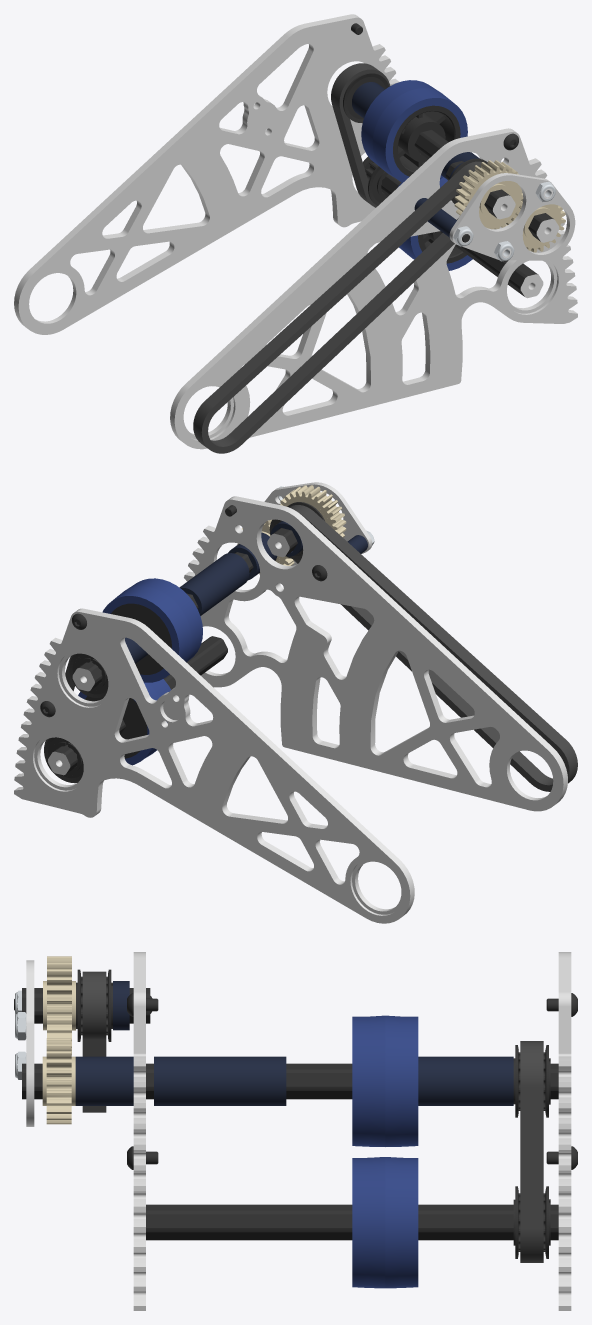
The picture shows the model from 3 angles, top to bottom: view 1: azimuth 30°, elevation 25°; view 2: azimuth 150°, elevation 25°; view 3: azimuth 270°, elevation 25°; orthographic projection. The views are drawn at different scales.
Visible parts, largest first — view 1: Hood Left Plate, Hood Right Plate, 89T HTD5 Belt, 2" Stealth Wheel (50A, 1/2" Hex Bore) (×2), Hood Gear Holder Plate, 28t Aluminum Spur Gear (20 DP, 1/2" Hex Bore), 39T HTD5 Belt, 1/2" Rounded Hex (6.63" L, 13.75mm OD), 15t Aluminum Pulley (HTD 5mm, 9mm Wide, 1/2" Hex Bore) (×2), 1/2" Rounded Hex (8.318" L, 13.75mm OD), 24t Aluminum Spur Gear (20 DP, 1/2" Hex Bore), 1/2" Rounded Hex (1.94" L, 13.75mm OD) (+1 smaller); view 2: Hood Left Plate, Hood Right Plate, 89T HTD5 Belt, 2" Stealth Wheel (50A, 1/2" Hex Bore) (×2), 3D Printed Hex Spacer, 1/2" Rounded Hex (6.63" L, 13.75mm OD), 15t Aluminum Pulley (HTD 5mm, 9mm Wide, 1/2" Hex Bore) (×2), 28t Aluminum Spur Gear (20 DP, 1/2" Hex Bore), Hood Gear Holder Plate, 1/2" Rounded Hex (8.318" L, 13.75mm OD), 1/2" Rounded Hex (1.94" L, 13.75mm OD); view 3: 2" Stealth Wheel (50A, 1/2" Hex Bore) (×2), 3D Printed Hex Spacer (×4), 1/2" Rounded Hex (6.63" L, 13.75mm OD), 39T HTD5 Belt, Hood Left Plate, Hood Right Plate, 1/2" Rounded Hex (8.318" L, 13.75mm OD), 15t Aluminum Pulley (HTD 5mm, 9mm Wide, 1/2" Hex Bore) (×3), 24t Aluminum Spur Gear (20 DP, 1/2" Hex Bore), 28t Aluminum Spur Gear (20 DP, 1/2" Hex Bore), 89T HTD5 Belt, Hood Gear Holder Plate (+1 smaller).
Boxes of the visible parts, x1=… form: Hood Left Plate: x1=14, y1=14, x2=399, y2=334; Hood Right Plate: x1=170, y1=128, x2=577, y2=449; 89T HTD5 Belt: x1=193, y1=161, x2=487, y2=453; 2" Stealth Wheel (50A, 1/2" Hex Bore) (×2): x1=361, y1=80, x2=472, y2=270; Hood Gear Holder Plate: x1=449, y1=173, x2=575, y2=260; 28t Aluminum Spur Gear (20 DP, 1/2" Hex Bore): x1=454, y1=160, x2=523, y2=229; 39T HTD5 Belt: x1=331, y1=63, x2=390, y2=207; 1/2" Rounded Hex (6.63" L, 13.75mm OD): x1=381, y1=174, x2=543, y2=298; 15t Aluminum Pulley (HTD 5mm, 9mm Wide, 1/2" Hex Bore) (×2): x1=336, y1=73, x2=389, y2=205; 1/2" Rounded Hex (8.318" L, 13.75mm OD): x1=414, y1=130, x2=559, y2=242; 24t Aluminum Spur Gear (20 DP, 1/2" Hex Bore): x1=506, y1=199, x2=565, y2=252; 1/2" Rounded Hex (1.94" L, 13.75mm OD): x1=445, y1=161, x2=515, y2=219; Hood Left Plate: x1=14, y1=608, x2=414, y2=923; Hood Right Plate: x1=184, y1=496, x2=567, y2=811; 89T HTD5 Belt: x1=289, y1=505, x2=577, y2=791; 2" Stealth Wheel (50A, 1/2" Hex Bore) (×2): x1=78, y1=578, x2=202, y2=765; 3D Printed Hex Spacer: x1=179, y1=553, x2=249, y2=615; 1/2" Rounded Hex (6.63" L, 13.75mm OD): x1=48, y1=636, x2=227, y2=775; 15t Aluminum Pulley (HTD 5mm, 9mm Wide, 1/2" Hex Bore) (×2): x1=44, y1=653, x2=108, y2=781; 28t Aluminum Spur Gear (20 DP, 1/2" Hex Bore): x1=280, y1=485, x2=346, y2=537; Hood Gear Holder Plate: x1=264, y1=482, x2=372, y2=565; 1/2" Rounded Hex (8.318" L, 13.75mm OD): x1=72, y1=552, x2=253, y2=691; 1/2" Rounded Hex (1.94" L, 13.75mm OD): x1=267, y1=528, x2=297, y2=557; 2" Stealth Wheel (50A, 1/2" Hex Bore) (×2): x1=352, y1=1015, x2=418, y2=1288; 3D Printed Hex Spacer (×4): x1=75, y1=981, x2=513, y2=1105; 1/2" Rounded Hex (6.63" L, 13.75mm OD): x1=146, y1=1204, x2=558, y2=1240; 39T HTD5 Belt: x1=520, y1=1041, x2=543, y2=1262; Hood Left Plate: x1=558, y1=952, x2=571, y2=1310; Hood Right Plate: x1=133, y1=952, x2=145, y2=1310; 1/2" Rounded Hex (8.318" L, 13.75mm OD): x1=22, y1=1063, x2=558, y2=1099; 15t Aluminum Pulley (HTD 5mm, 9mm Wide, 1/2" Hex Bore) (×3): x1=76, y1=969, x2=550, y2=1258; 24t Aluminum Spur Gear (20 DP, 1/2" Hex Bore): x1=42, y1=1038, x2=75, y2=1124; 28t Aluminum Spur Gear (20 DP, 1/2" Hex Bore): x1=43, y1=956, x2=75, y2=1054; 89T HTD5 Belt: x1=82, y1=971, x2=106, y2=1112; Hood Gear Holder Plate: x1=26, y1=960, x2=34, y2=1126.
Size of the model in its own units: 0.2442 by 0.1414 by 0.2169.
